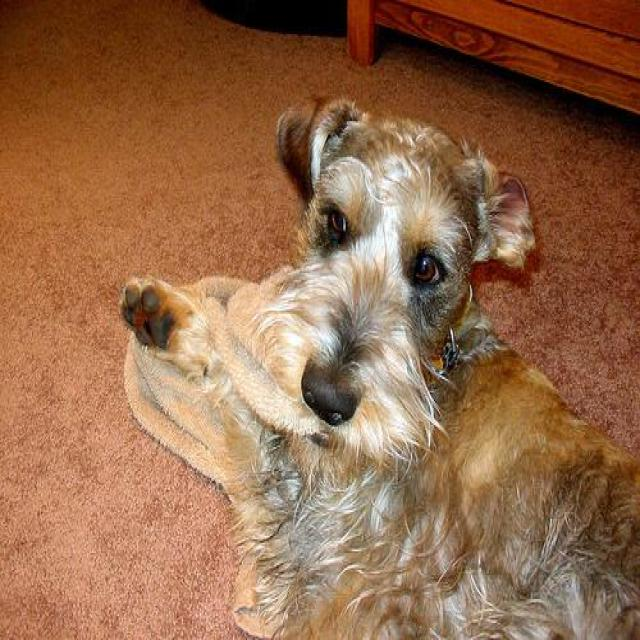standard_schnauzer: (116, 94, 638, 638)
